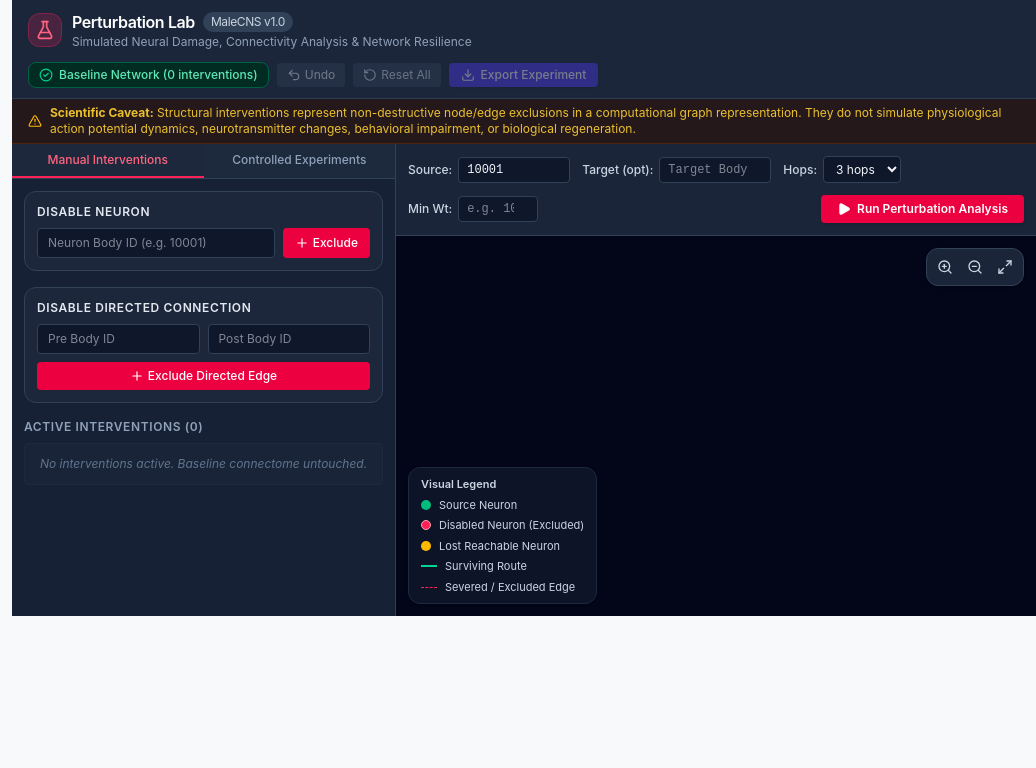
Test: PerturbationLab (V5) Component › allows adding and removing a directed edge intervention
The width and height of the screenshot is (1036, 768).
Step 1. Type "10001" into the number field with placeholder "Pre Body ID" → (118, 339), box [37,324,200,354]
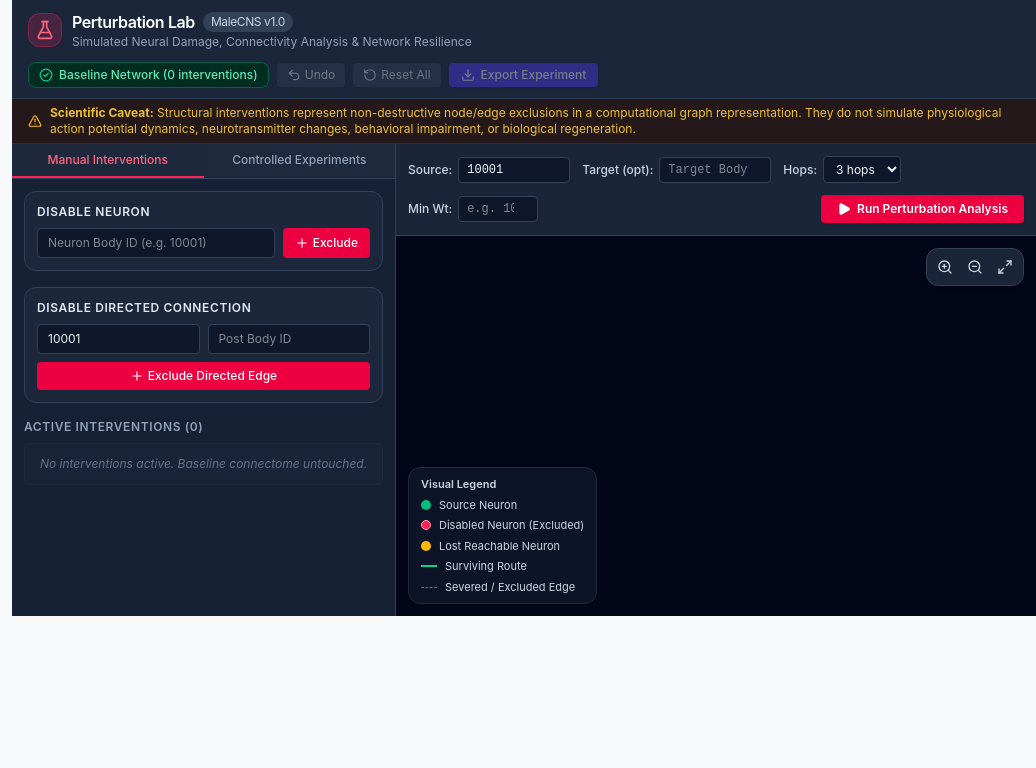
Step 2. Type "800146" into the number field with placeholder "Post Body ID" → (289, 339), box [208,324,370,354]
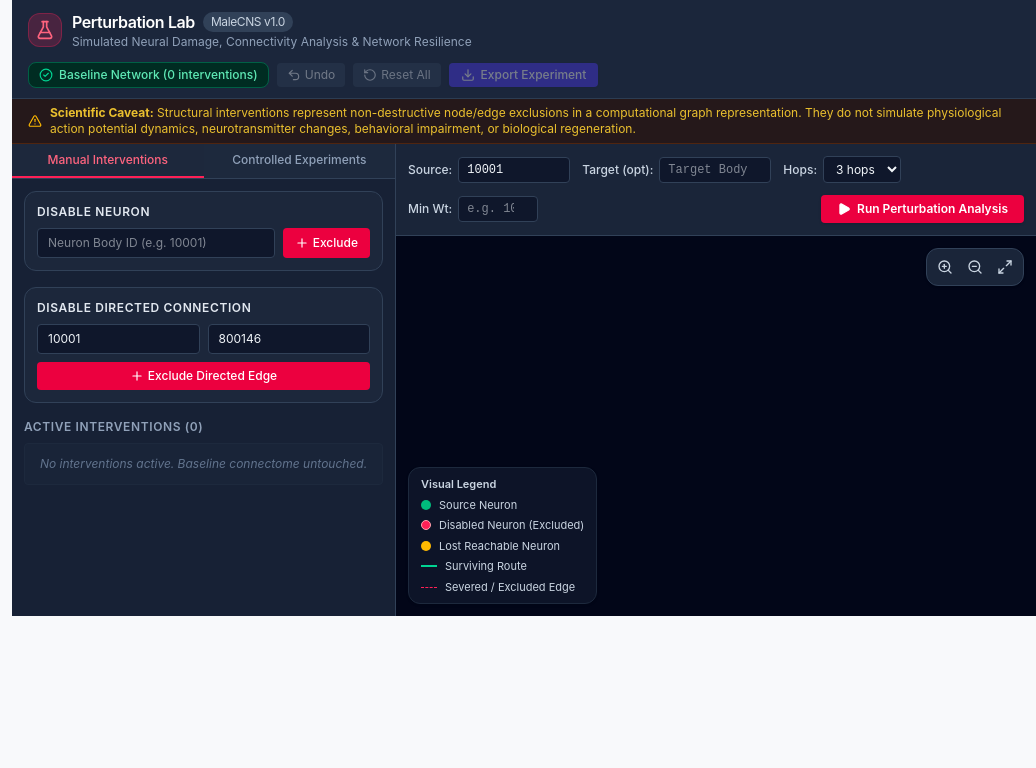
Step 3. Click the button "Exclude Directed Edge" → (204, 376), box [37,362,370,390]
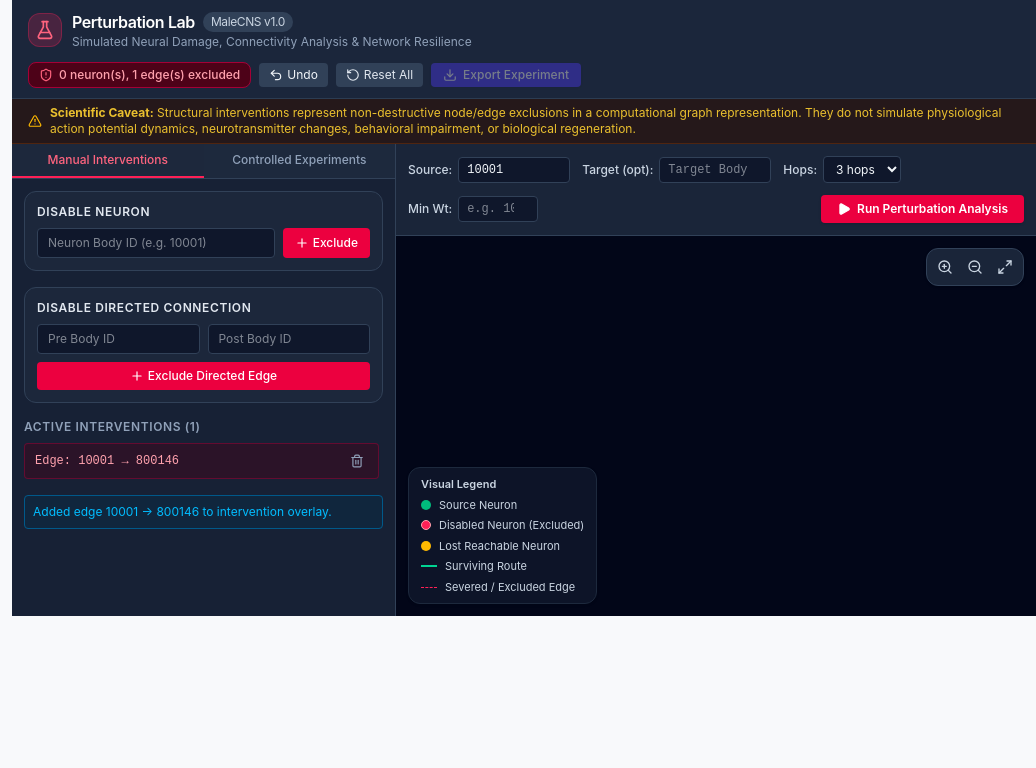
Now the text "Edge: 10001 → 800146" is shown, box [35,453,179,469]
// Remove the edge
Step 4. Click the button titled "Restore this directed edge" → (357, 461), box [346,450,368,472]
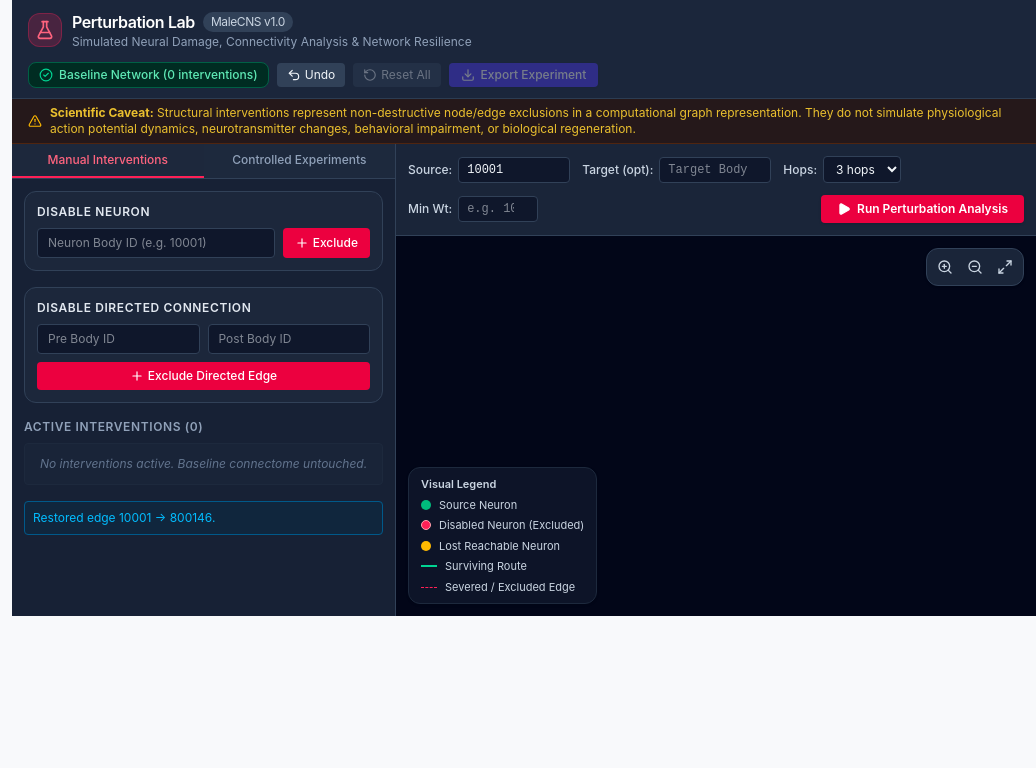
Now the text "Edge: 10001 → 800146" is gone
